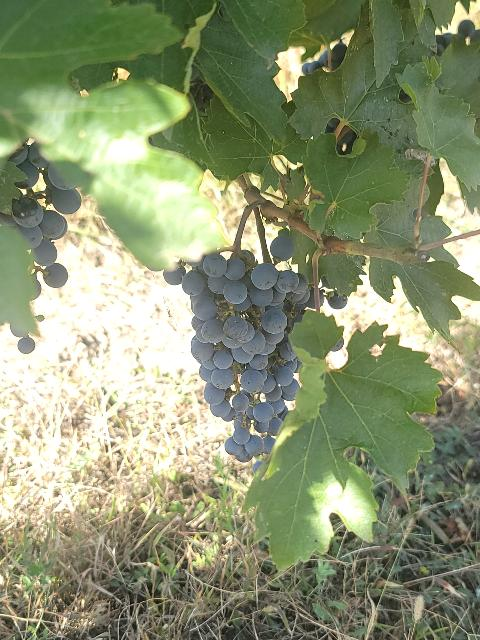grapes: (181, 252, 310, 461)
